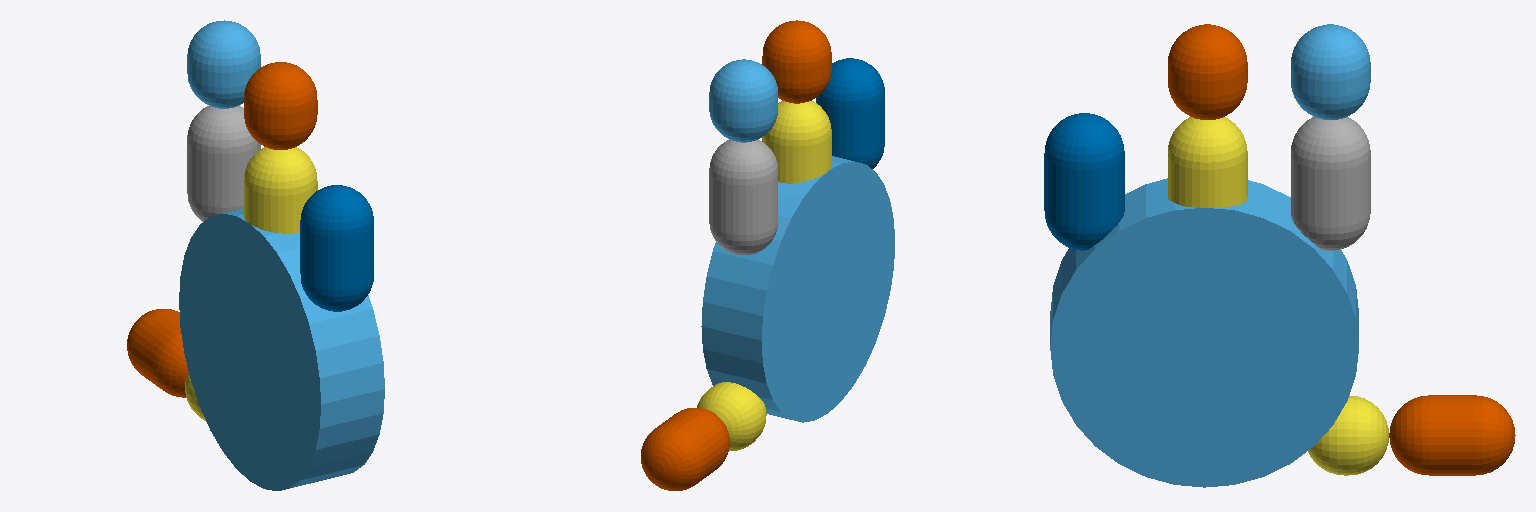
The robot description file, URDF, robot "DexterousHand":
<?xml version="1.0"?>
<robot name="DexterousHand">


    <link name="world"/>
    <joint name="world_to_palm" type="fixed">
        <parent link="world"/>
        <child link="palm"/>
        <origin xyz="0 0 0" rpy="0 0 0"/>
    </joint>
    <link name="palm">
        <inertial>
            <origin xyz="0 0 0.057" rpy="0 0 0"/>
            <mass value="0.30212892864"/>
            <inertia ixx="0.00049080844457568" ixy="0.0" ixz="0.0" iyy="0.00026746366246427523" iyz="0.0" izz="0.00026746366246427523"/>
        </inertial>
        <visual>
            <origin xyz="0 0 0.057" rpy="1.5708 0 1.5708"/>
            <geometry>
                <cylinder radius="0.057" length="0.0296"/>
            </geometry>
            <material name="default"/>
        </visual>
        <collision>
            <origin xyz="0 0 0.057" rpy="1.5708 0 1.5708"/>
            <geometry>
                <cylinder radius="0.057" length="0.0296"/>
            </geometry>
        </collision>
    </link>

    
    <joint name="thumb_joint1" type="revolute">
        <parent link="palm"/>
        <child link="thumb_base"/>
        <origin xyz="0.0029 0.0368 0.0157" rpy="-1.5708 -1.5708 0.0"/>
        <axis xyz="-1 0 0"/>
        <limit lower="-0.349" upper="2.094" effort="1.0" velocity="1.0"/>
    </joint>

    <link name="thumb_base"></link>

    <joint name="thumb_joint2" type="revolute">
        <parent link="thumb_base"/>
        <child link="thumb_proximal"/>
        <origin xyz="0.0 0.0 0.0" rpy="0.0 0.0 0.0"/>
        <axis xyz="0 0 1"/>
        <limit lower="-0.47" upper="2.443" effort="1.0" velocity="1.0"/>
    </joint>

    <link name="thumb_proximal">
        <inertial>
            <origin xyz="0 0 0.01565" rpy="0 0 0"/>
            <mass value="0.021538658803200002"/>
            <inertia ixx="2.9378910096388167e-06" ixy="0.0" ixz="0.0" 
            iyy="2.9378910096388167e-06" iyz="0.0" izz="2.358913912126464e-06"/>
        </inertial>
        <visual>
            <origin xyz="0 0 0.01565" rpy="0 0 0"/>
            <geometry>
                <cylinder radius="0.0148" length="0.0017000000000000001"/>
            </geometry>
            <material name="default"/>
        </visual>
        <visual>
            <origin xyz="0 0 0.0148" rpy="0 0 0"/>
            <geometry>
                <sphere radius="0.0148"/>
            </geometry>
            <material name="default"/>
        </visual>
        <visual>
            <origin xyz="0 0 0.0165" rpy="0 0 0"/>
            <geometry>
                <sphere radius="0.0148"/>
            </geometry>
            <material name="default"/>
        </visual>
        <collision>
            <origin xyz="0 0 0.01565" rpy="0 0 0"/>
            <geometry>
                <cylinder radius="0.0148" length="0.0017000000000000001"/>
            </geometry>
        </collision>
        <collision>
            <origin xyz="0 0 0.0148" rpy="0 0 0"/>
            <geometry>
                <sphere radius="0.0148"/>
            </geometry>
        </collision>
        <collision>
            <origin xyz="0 0 0.0165" rpy="0 0 0"/>
            <geometry>
                <sphere radius="0.0148"/>
            </geometry>
        </collision>
    </link>

    <joint name="thumb_joint3" type="revolute">
        <parent link="thumb_proximal"/>
        <child link="thumb_knuckle"/>
        <origin xyz="0.0 0.0 0.0313" rpy="0.0 0.0 0.0"/>
        <axis xyz="1 0 0"/>
        <limit lower="0.0" upper="0.0" effort="1.0" velocity="1.0"/>
    </joint>

    <link name="thumb_knuckle"></link>

    <joint name="thumb_joint4" type="revolute">
        <parent link="thumb_knuckle"/>
        <child link="thumb_middle"/>
        <origin xyz="0 0 0" rpy="0 0 0"/> 
        <axis xyz="0 1 0"/>
        <limit lower="-1.2" upper="1.9" effort="1.0" velocity="1.0"/>
    </joint>

    <link name="thumb_middle">
        <inertial>
            <origin xyz="0 0 0.0233" rpy="0 0 0"/>
            <mass value="0.032067140582400004"/>
            <inertia ixx="7.5589732685519385e-06" ixy="0.0" ixz="0.0" 
            iyy="7.5589732685519385e-06" iyz="0.0" izz="3.5119932365844485e-06"/>
        </inertial>
        <visual>
            <origin xyz="0 0 0.0233" rpy="0 0 0"/>
            <geometry>
                <cylinder radius="0.0148" length="0.017"/>
            </geometry>
            <material name="default"/>
        </visual>
        <visual>
            <origin xyz="0 0 0.0148" rpy="0 0 0"/>
            <geometry>
                <sphere radius="0.0148"/>
            </geometry>
            <material name="default"/>
        </visual>
        <visual>
            <origin xyz="0 0 0.0318" rpy="0 0 0"/>
            <geometry>
                <sphere radius="0.0148"/>
            </geometry>
            <material name="default"/>
        </visual>
        <collision>
            <origin xyz="0 0 0.0233" rpy="0 0 0"/>
            <geometry>
                <cylinder radius="0.0148" length="0.017"/>
            </geometry>
        </collision>
        <collision>
            <origin xyz="0 0 0.0148" rpy="0 0 0"/>
            <geometry>
                <sphere radius="0.0148"/>
            </geometry>
        </collision>
        <collision>
            <origin xyz="0 0 0.0318" rpy="0 0 0"/>
            <geometry>
                <sphere radius="0.0148"/>
            </geometry>
        </collision>
    </link>

    <joint name="thumb_joint5" type="revolute">
        <parent link="thumb_middle"/>
        <child link="thumb_distal"/>
        <origin xyz="0 0 0.0466" rpy="0 0 0"/> 
        <axis xyz="0 1 0"/>
        <limit lower="0.0" upper="0.0" effort="1.0" velocity="1.0"/>
    </joint>

    <link name="thumb_distal">
    </link>

    
    <joint name="index_joint1" type="revolute">
        <parent link="palm"/>
        <child link="index_proximal"/>
        <origin xyz="0.0 0.0465 0.091" rpy="0.0 0.0 0.0"/>
        <axis xyz="0 1 0"/>
        <limit lower="-0.314" upper="2.23" effort="1.0" velocity="1.0"/>
    </joint>

    <link name="index_proximal">
        <inertial>
            <origin xyz="0 0 0.02655" rpy="0 0 0"/>
            <mass value="0.036540024998400006"/>
            <inertia ixx="1.058665009272394e-05" ixy="0.0" ixz="0.0" 
            iyy="1.058665009272394e-05" iyz="0.0" izz="4.001863537824769e-06"/>
        </inertial>
        <visual>
            <origin xyz="0 0 0.02655" rpy="0 0 0"/>
            <geometry>
                <cylinder radius="0.0148" length="0.0235"/>
            </geometry>
            <material name="default"/>
        </visual>
        <visual>
            <origin xyz="0 0 0.0148" rpy="0 0 0"/>
            <geometry>
                <sphere radius="0.0148"/>
            </geometry>
            <material name="default"/>
        </visual>
        <visual>
            <origin xyz="0 0 0.0383" rpy="0 0 0"/>
            <geometry>
                <sphere radius="0.0148"/>
            </geometry>
            <material name="default"/>
        </visual>
        <collision>
            <origin xyz="0 0 0.02655" rpy="0 0 0"/>
            <geometry>
                <cylinder radius="0.0148" length="0.0235"/>
            </geometry>
        </collision>
        <collision>
            <origin xyz="0 0 0.0148" rpy="0 0 0"/>
            <geometry>
                <sphere radius="0.0148"/>
            </geometry>
        </collision>
        <collision>
            <origin xyz="0 0 0.0383" rpy="0 0 0"/>
            <geometry>
                <sphere radius="0.0148"/>
            </geometry>
        </collision>
    </link>

    <joint name="index_joint2" type="revolute">
        <parent link="index_proximal"/>
        <child link="index_dummy"/>
        <origin xyz="0.0 0.0 0.038" rpy="0.0 0.0 0.0"/>
        <axis xyz="1 0 0"/>
        <limit lower="-1.047" upper="1.047" effort="1.0" velocity="1.0"/>
    </joint>

    <link name="index_dummy"></link>

    <joint name="index_joint3" type="revolute">
        <parent link="index_dummy"/>
        <child link="index_middle"/>
        <origin xyz="0 0 0.015100000000000002" rpy="0 0 0"/>
        <axis xyz="0 1 0"/>
        <limit lower="-0.506" upper="1.885" effort="1.0" velocity="1.0"/>
    </joint>

    <link name="index_middle">
        <inertial>
            <origin xyz="0 0 0.01805" rpy="0 0 0"/>
            <mass value="0.0248417119104"/>
            <inertia ixx="4.058162759109537e-06" ixy="0.0" ixz="0.0" 
            iyy="4.058162759109537e-06" iyz="0.0" izz="2.7206642884270085e-06"/>
        </inertial>
        <visual>
            <origin xyz="0 0 0.01805" rpy="0 0 0"/>
            <geometry>
                <cylinder radius="0.0148" length="0.006499999999999999"/>
            </geometry>
            <material name="default"/>
        </visual>
        <visual>
            <origin xyz="0 0 0.0148" rpy="0 0 0"/>
            <geometry>
                <sphere radius="0.0148"/>
            </geometry>
            <material name="default"/>
        </visual>
        <visual>
            <origin xyz="0 0 0.0213" rpy="0 0 0"/>
            <geometry>
                <sphere radius="0.0148"/>
            </geometry>
            <material name="default"/>
        </visual>
        <collision>
            <origin xyz="0 0 0.01805" rpy="0 0 0"/>
            <geometry>
                <cylinder radius="0.0148" length="0.006499999999999999"/>
            </geometry>
        </collision>
        <collision>
            <origin xyz="0 0 0.0148" rpy="0 0 0"/>
            <geometry>
                <sphere radius="0.0148"/>
            </geometry>
        </collision>
        <collision>
            <origin xyz="0 0 0.0213" rpy="0 0 0"/>
            <geometry>
                <sphere radius="0.0148"/>
            </geometry>
        </collision>
    </link>

    <joint name="index_joint4" type="revolute">
        <parent link="index_middle"/>
        <child link="index_distal"/>
        <origin xyz="0 0 0.0361" rpy="0 0 0"/> 
        <axis xyz="0 1 0"/>
        <limit lower="0.0" upper="0.0" effort="1.0" velocity="1.0"/>
    </joint>

    <link name="index_distal">
    </link>

    
    <joint name="middle_joint1" type="revolute">
        <parent link="palm"/>
        <child link="middle_proximal"/>
        <origin xyz="0.0 0.0011 0.091" rpy="0.0 0.0 0.0"/>
        <axis xyz="0 1 0"/>
        <limit lower="-0.314" upper="2.23" effort="1.0" velocity="1.0"/>
    </joint>

    <link name="middle_proximal">
        <inertial>
            <origin xyz="0 0 0.02655" rpy="0 0 0"/>
            <mass value="0.036540024998400006"/>
            <inertia ixx="1.058665009272394e-05" ixy="0.0" ixz="0.0" 
            iyy="1.058665009272394e-05" iyz="0.0" izz="4.001863537824769e-06"/>
        </inertial>
        <visual>
            <origin xyz="0 0 0.02655" rpy="0 0 0"/>
            <geometry>
                <cylinder radius="0.0148" length="0.0235"/>
            </geometry>
            <material name="default"/>
        </visual>
        <visual>
            <origin xyz="0 0 0.0148" rpy="0 0 0"/>
            <geometry>
                <sphere radius="0.0148"/>
            </geometry>
            <material name="default"/>
        </visual>
        <visual>
            <origin xyz="0 0 0.0383" rpy="0 0 0"/>
            <geometry>
                <sphere radius="0.0148"/>
            </geometry>
            <material name="default"/>
        </visual>
        <collision>
            <origin xyz="0 0 0.02655" rpy="0 0 0"/>
            <geometry>
                <cylinder radius="0.0148" length="0.0235"/>
            </geometry>
        </collision>
        <collision>
            <origin xyz="0 0 0.0148" rpy="0 0 0"/>
            <geometry>
                <sphere radius="0.0148"/>
            </geometry>
        </collision>
        <collision>
            <origin xyz="0 0 0.0383" rpy="0 0 0"/>
            <geometry>
                <sphere radius="0.0148"/>
            </geometry>
        </collision>
    </link>

    <joint name="middle_joint2" type="revolute">
        <parent link="middle_proximal"/>
        <child link="middle_dummy"/>
        <origin xyz="0.0 0.0 0.038" rpy="0.0 0.0 0.0"/>
        <axis xyz="1 0 0"/>
        <limit lower="-1.047" upper="1.047" effort="1.0" velocity="1.0"/>
    </joint>

    <link name="middle_dummy"></link>

    <joint name="middle_joint3" type="revolute">
        <parent link="middle_dummy"/>
        <child link="middle_middle"/>
        <origin xyz="0 0 0.015100000000000002" rpy="0 0 0"/>
        <axis xyz="0 1 0"/>
        <limit lower="-0.506" upper="1.885" effort="1.0" velocity="1.0"/>
    </joint>

    <link name="middle_middle">
        <inertial>
            <origin xyz="0 0 0.01805" rpy="0 0 0"/>
            <mass value="0.0248417119104"/>
            <inertia ixx="4.058162759109537e-06" ixy="0.0" ixz="0.0" 
            iyy="4.058162759109537e-06" iyz="0.0" izz="2.7206642884270085e-06"/>
        </inertial>
        <visual>
            <origin xyz="0 0 0.01805" rpy="0 0 0"/>
            <geometry>
                <cylinder radius="0.0148" length="0.006499999999999999"/>
            </geometry>
            <material name="default"/>
        </visual>
        <visual>
            <origin xyz="0 0 0.0148" rpy="0 0 0"/>
            <geometry>
                <sphere radius="0.0148"/>
            </geometry>
            <material name="default"/>
        </visual>
        <visual>
            <origin xyz="0 0 0.0213" rpy="0 0 0"/>
            <geometry>
                <sphere radius="0.0148"/>
            </geometry>
            <material name="default"/>
        </visual>
        <collision>
            <origin xyz="0 0 0.01805" rpy="0 0 0"/>
            <geometry>
                <cylinder radius="0.0148" length="0.006499999999999999"/>
            </geometry>
        </collision>
        <collision>
            <origin xyz="0 0 0.0148" rpy="0 0 0"/>
            <geometry>
                <sphere radius="0.0148"/>
            </geometry>
        </collision>
        <collision>
            <origin xyz="0 0 0.0213" rpy="0 0 0"/>
            <geometry>
                <sphere radius="0.0148"/>
            </geometry>
        </collision>
    </link>

    <joint name="middle_joint4" type="revolute">
        <parent link="middle_middle"/>
        <child link="middle_distal"/>
        <origin xyz="0 0 0.0361" rpy="0 0 0"/> 
        <axis xyz="0 1 0"/>
        <limit lower="0.0" upper="0.0" effort="1.0" velocity="1.0"/>
    </joint>

    <link name="middle_distal">
    </link>

    
    <joint name="ring_joint1" type="revolute">
        <parent link="palm"/>
        <child link="ring_proximal"/>
        <origin xyz="0.0 0.0 0.0" rpy="0.0 0.0 0.0"/>
        <axis xyz="1 0 0"/>
        <limit lower="0.0" upper="0.0" effort="1.0" velocity="1.0"/>
    </joint>

    <link name="ring_proximal">
    </link>

    <joint name="ring_joint2" type="revolute">
        <parent link="ring_proximal"/>
        <child link="ring_dummy"/>
        <origin xyz="0.0 0.0 0.0" rpy="0.0 0.0 0.0"/>
        <axis xyz="0 1 0"/>
        <limit lower="0.0" upper="0.0" effort="1.0" velocity="1.0"/>
    </joint>

    <link name="ring_dummy"></link>

    <joint name="ring_joint3" type="revolute">
        <parent link="ring_dummy"/>
        <child link="ring_middle"/>
        <origin xyz="0 0 0" rpy="0 0 0"/>
        <axis xyz="0 1 0"/>
        <limit lower="0.0" upper="0.0" effort="1.0" velocity="1.0"/>
    </joint>

    <link name="ring_middle">
    </link>

    <joint name="ring_joint4" type="revolute">
        <parent link="ring_middle"/>
        <child link="ring_distal"/>
        <origin xyz="0 0 0" rpy="0 0 0"/> 
        <axis xyz="0 1 0"/>
        <limit lower="0.0" upper="0.0" effort="1.0" velocity="1.0"/>
    </joint>

    <link name="ring_distal">
    </link>

    
    <joint name="little_joint0" type="revolute">
        <parent link="palm"/>
        <child link="little_base"/>
        <origin xyz="0.0 0.0 0.0" rpy="0.0 0.0 0.0"/>
        <axis xyz="0 1 0"/>
        <limit lower="0.0" upper="0.0" effort="1.0" velocity="1.0"/>
    </joint>

    <link name="little_base"></link>

    <joint name="little_joint1" type="revolute">
        <parent link="little_base"/>
        <child link="little_proximal"/>
        <origin xyz="0.0 -0.0443 0.091" rpy="-0.0 -0.0 -0.0"/>
        <axis xyz="0 1 0"/>
        <limit lower="-0.314" upper="2.23" effort="1.0" velocity="1.0"/>
    </joint>

    <link name="little_proximal">
        <inertial>
            <origin xyz="0 0 0.02655" rpy="0 0 0"/>
            <mass value="0.036540024998400006"/>
            <inertia ixx="1.058665009272394e-05" ixy="0.0" ixz="0.0" 
            iyy="1.058665009272394e-05" iyz="0.0" izz="4.001863537824769e-06"/>
        </inertial>
        <visual>
            <origin xyz="0 0 0.02655" rpy="0 0 0"/>
            <geometry>
                <cylinder radius="0.0148" length="0.0235"/>
            </geometry>
            <material name="default"/>
        </visual>
        <visual>
            <origin xyz="0 0 0.0148" rpy="0 0 0"/>
            <geometry>
                <sphere radius="0.0148"/>
            </geometry>
            <material name="default"/>
        </visual>
        <visual>
            <origin xyz="0 0 0.0383" rpy="0 0 0"/>
            <geometry>
                <sphere radius="0.0148"/>
            </geometry>
            <material name="default"/>
        </visual>
        <collision>
            <origin xyz="0 0 0.02655" rpy="0 0 0"/>
            <geometry>
                <cylinder radius="0.0148" length="0.0235"/>
            </geometry>
        </collision>
        <collision>
            <origin xyz="0 0 0.0148" rpy="0 0 0"/>
            <geometry>
                <sphere radius="0.0148"/>
            </geometry>
        </collision>
        <collision>
            <origin xyz="0 0 0.0383" rpy="0 0 0"/>
            <geometry>
                <sphere radius="0.0148"/>
            </geometry>
        </collision>
    </link>

    <joint name="little_joint2" type="revolute">
        <parent link="little_proximal"/>
        <child link="little_dummy"/>
        <origin xyz="0.0 0.0 0.038" rpy="0.0 0.0 0.0"/>
        <axis xyz="0 1 0"/>
        <limit lower="0.0" upper="0.0" effort="1.0" velocity="1.0"/>
    </joint>

    <link name="little_dummy"></link>

    <joint name="little_joint3" type="revolute">
        <parent link="little_dummy"/>
        <child link="little_middle"/>
        <origin xyz="0 0 0.015100000000000002" rpy="0 0 0"/>
        <axis xyz="0 1 0"/>
        <limit lower="0.0" upper="0.0" effort="1.0" velocity="1.0"/>
    </joint>

    <link name="little_middle">
    </link>

    <joint name="little_joint4" type="revolute">
        <parent link="little_middle"/>
        <child link="little_distal"/>
        <origin xyz="0 0 0" rpy="0 0 0"/>
        <axis xyz="0 1 0"/>
        <limit lower="0.0" upper="0.0" effort="1.0" velocity="1.0"/>
    </joint>

    <link name="little_distal">
    </link>

</robot>

--- What the picture shows (computed from the rendered views, not written in the file) ---
The picture shows the robot from 3 angles, left to right: view 1: azimuth 30°, elevation 25°; view 2: azimuth 150°, elevation 25°; view 3: azimuth 270°, elevation 25°; orthographic projection.
Robot: DexterousHand — 24 links, 23 joints (22 revolute, 1 fixed); root link world; default pose: every joint at zero.
Links seen in each view (by area): view 1: palm, little_proximal, index_proximal, middle_middle, middle_proximal, index_middle, thumb_middle; view 2: palm, index_proximal, little_proximal, thumb_middle, index_middle, middle_middle, middle_proximal, thumb_proximal; view 3: palm, little_proximal, index_proximal, thumb_middle, middle_proximal, middle_middle, index_middle, thumb_proximal.
Boxes of the visible links, x1,y1,x2,y2 form: palm: [179, 209, 384, 490]; little_proximal: [300, 185, 373, 311]; index_proximal: [187, 105, 260, 221]; middle_middle: [244, 62, 317, 149]; middle_proximal: [244, 147, 317, 233]; index_middle: [187, 20, 260, 108]; thumb_middle: [127, 309, 188, 397]; palm: [701, 156, 894, 422]; index_proximal: [709, 139, 777, 255]; little_proximal: [816, 58, 884, 168]; thumb_middle: [641, 408, 729, 490]; index_middle: [709, 59, 777, 142]; middle_middle: [762, 20, 831, 103]; middle_proximal: [762, 100, 831, 183]; thumb_proximal: [697, 382, 766, 450]; palm: [1050, 178, 1358, 487]; little_proximal: [1044, 113, 1124, 250]; index_proximal: [1291, 117, 1370, 250]; thumb_middle: [1389, 395, 1515, 475]; middle_proximal: [1168, 117, 1247, 207]; middle_middle: [1168, 24, 1247, 119]; index_middle: [1291, 24, 1370, 119]; thumb_proximal: [1308, 395, 1388, 475].
Bounding box of the posed robot: 0.0325 × 0.1738 × 0.1802 m (x, y, z).
Geometry: primitives only (box / cylinder / sphere), no mesh files.
